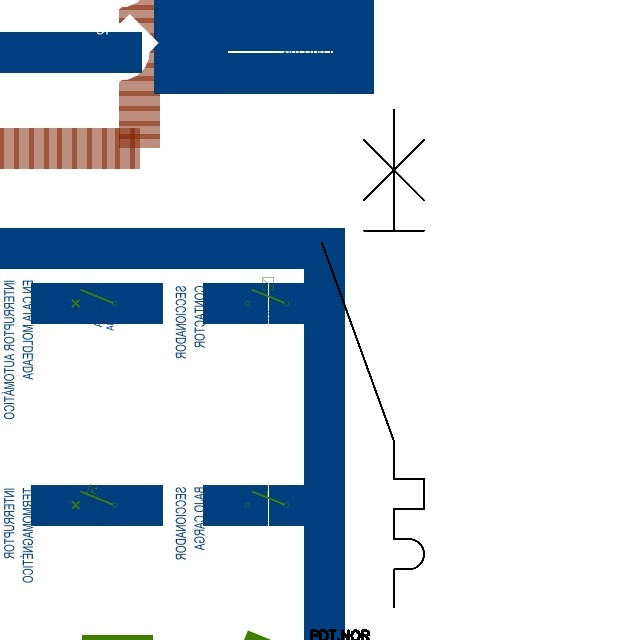interruptor_termomagnetico: (309, 97, 437, 620)
